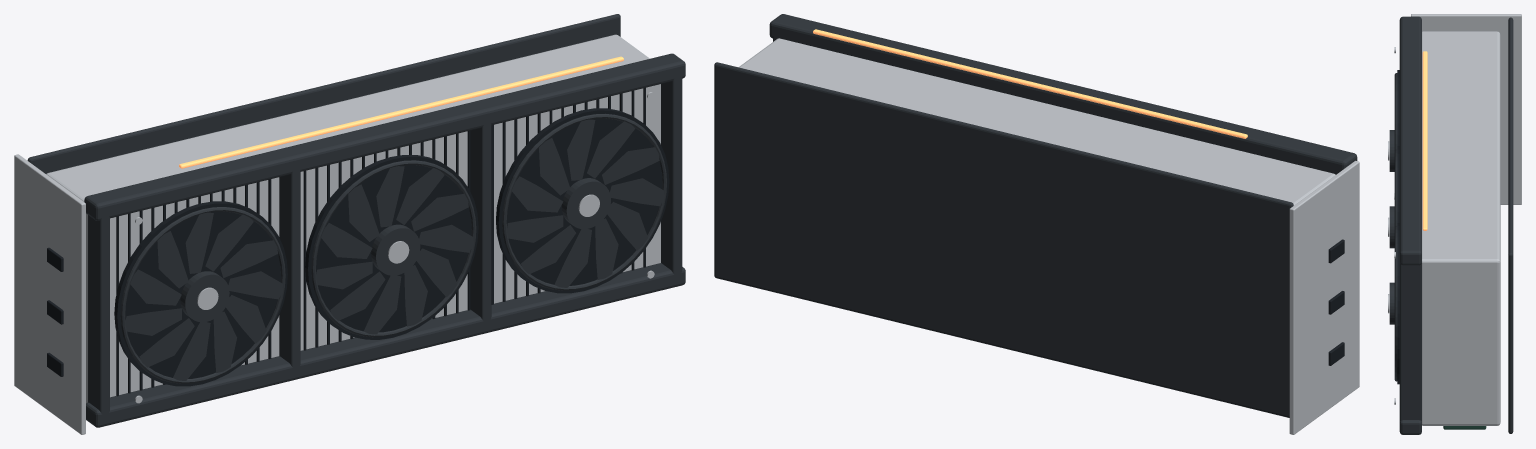
File: gpu-triple-fan.glb
The picture shows the model from 3 angles, left to right: view 1: azimuth 30°, elevation 25°; view 2: azimuth 150°, elevation 25°; view 3: azimuth 270°, elevation 25°; orthographic projection. The views are drawn at different scales.
Visible parts, largest first — view 1: Anodized graphite, Brushed alloy.001, Matte polymer.001, RGB demonstrative; view 2: Anodized graphite, Brushed alloy.001, RGB demonstrative, Matte polymer.001; view 3: Brushed alloy.001, Anodized graphite, RGB demonstrative, Matte polymer.001, PCB.001.
Part boxes in pixels (<box>): Anodized graphite: <box>27,14,685,427</box>; Brushed alloy.001: <box>14,34,660,434</box>; Matte polymer.001: <box>47,87,669,396</box>; RGB demonstrative: <box>179,56,623,168</box>; Anodized graphite: <box>714,14,1357,417</box>; Brushed alloy.001: <box>739,38,1359,434</box>; RGB demonstrative: <box>813,29,1247,138</box>; Matte polymer.001: <box>1328,239,1344,365</box>; Brushed alloy.001: <box>1388,14,1521,425</box>; Anodized graphite: <box>1389,16,1513,434</box>; RGB demonstrative: <box>1422,51,1427,230</box>; Matte polymer.001: <box>1397,70,1399,384</box>; PCB.001: <box>1443,426,1486,429</box>.
Size of the model in its own units: 360 by 140 by 84.4.
